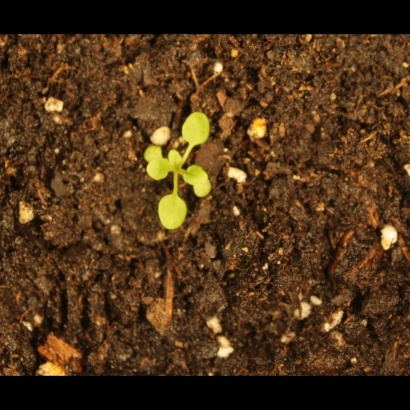leaf: (178, 109, 218, 147), (155, 193, 191, 232), (142, 155, 172, 184), (186, 163, 209, 189), (142, 144, 165, 167), (192, 177, 215, 200), (166, 148, 189, 171)
